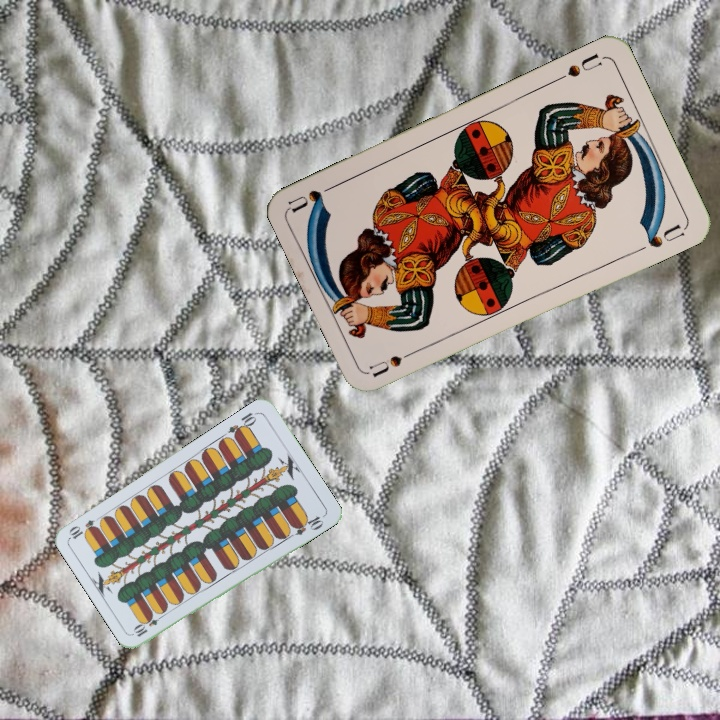E10: (224, 408, 261, 440), (130, 609, 167, 640)
SU: (366, 344, 423, 380), (551, 49, 607, 85)
